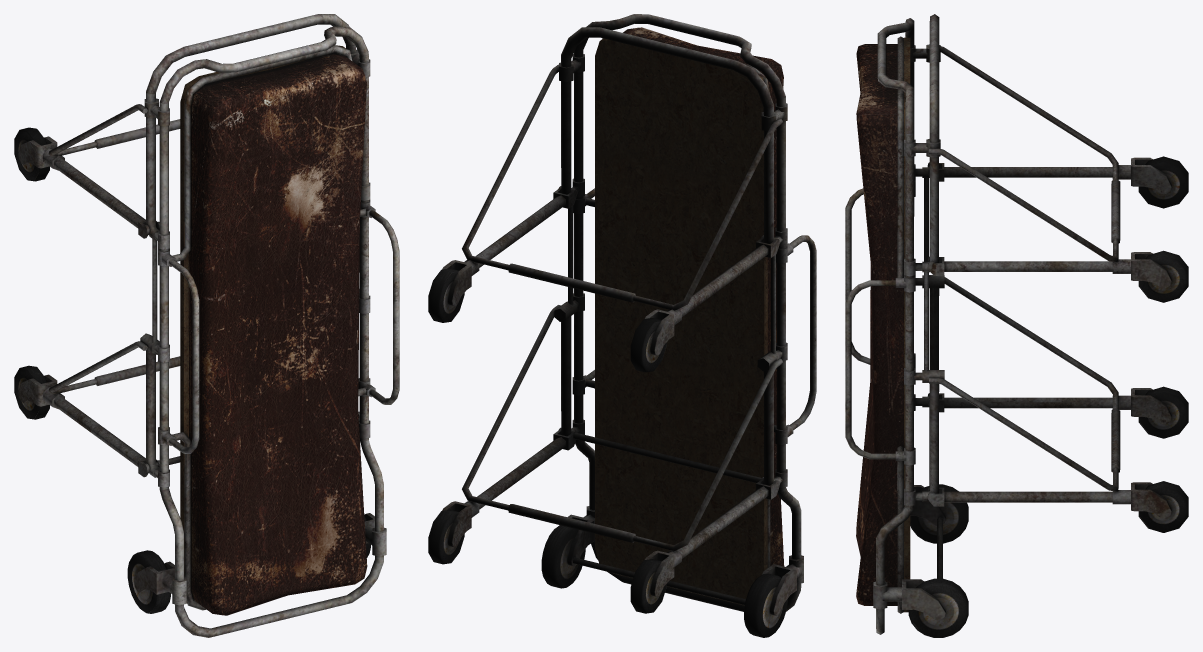
File: Trolley.obj
3 renders of one model, left to right at view 1: azimuth 30°, elevation 25°; view 2: azimuth 150°, elevation 25°; view 3: azimuth 270°, elevation 25°, orthographic. The views are drawn at different scales.
Parts seen in each view (by area): view 1: Trolley; view 2: Trolley; view 3: Trolley.
Boxes of the visible parts, x1,y1,x2,y2 form: Trolley: [14, 14, 399, 637]; Trolley: [428, 14, 816, 637]; Trolley: [845, 14, 1188, 637].
Bounding box in the file's own units: 44.9 × 109 × 61.86.
